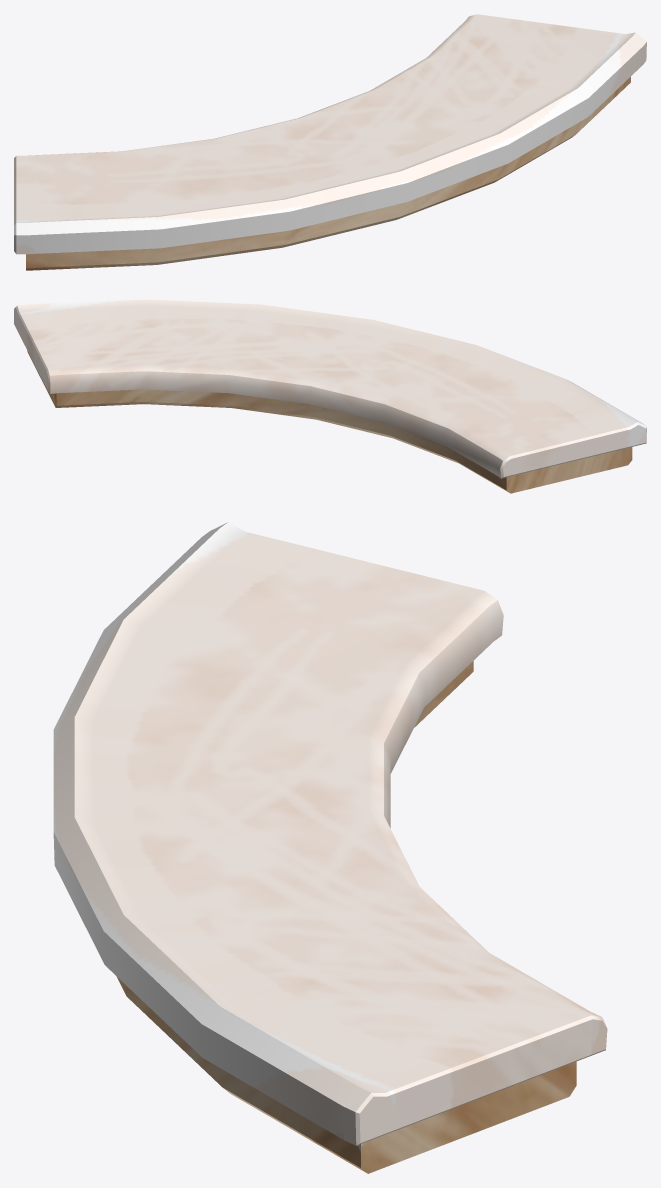
File: stand_m.fbx
3 renders of one model, top to bottom at view 1: azimuth 30°, elevation 25°; view 2: azimuth 150°, elevation 25°; view 3: azimuth 270°, elevation 25°, orthographic. The views are drawn at different scales.
Visible parts, largest first — view 1: stand_sizeM; view 2: stand_sizeM; view 3: stand_sizeM.
Boxes of the visible parts, bbox=[...] form: stand_sizeM: bbox=[14, 14, 646, 270]; stand_sizeM: bbox=[14, 299, 646, 493]; stand_sizeM: bbox=[53, 522, 607, 1173].
Size of the model in its own units: 775 by 56.16 by 312.
1 material, 1 textured.
